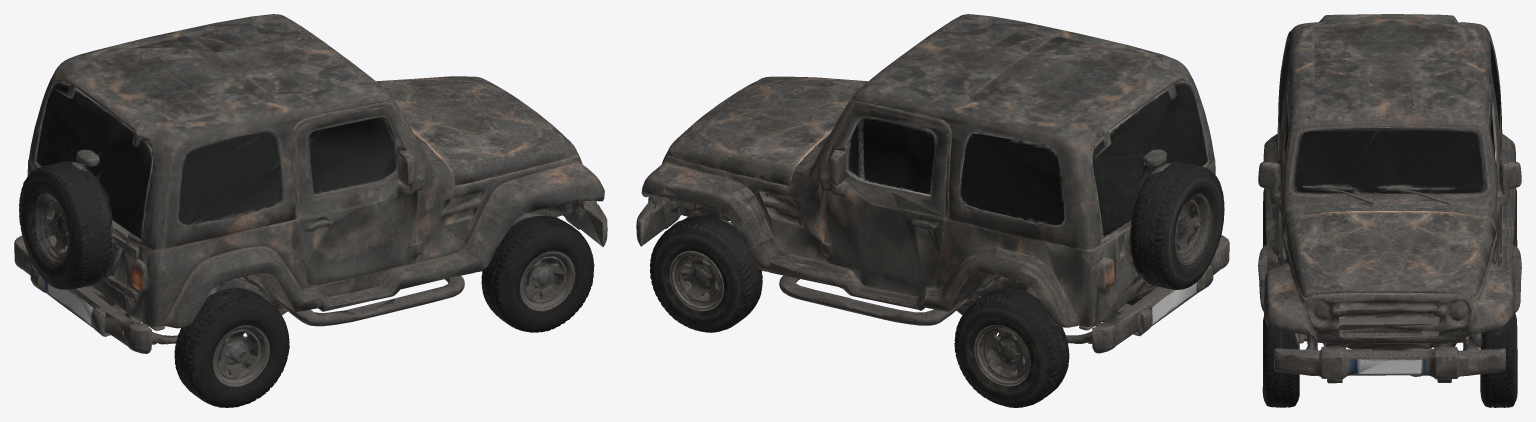
Rendered from trilheiro-queimado__01a16dcf.glb.
The picture shows the model from 3 angles, left to right: view 1: azimuth 30°, elevation 25°; view 2: azimuth 150°, elevation 25°; view 3: azimuth 270°, elevation 25°; orthographic projection. The views are drawn at different scales.
Parts seen in each view (by area): view 1: trilheiro-queimado; view 2: trilheiro-queimado; view 3: trilheiro-queimado.
Boxes of the visible parts, x1,y1,x2,y2 form: trilheiro-queimado: [14, 14, 607, 407]; trilheiro-queimado: [636, 14, 1229, 407]; trilheiro-queimado: [1258, 14, 1521, 407].
Size of the model in its own units: 3.95 by 2.04 by 2.06.
Materials: 1 (1 with a texture image).
